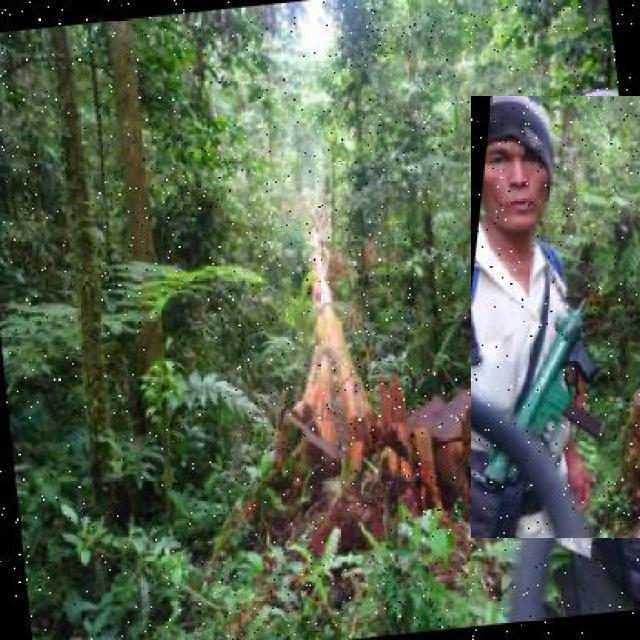poacher: (471, 96, 640, 538)
